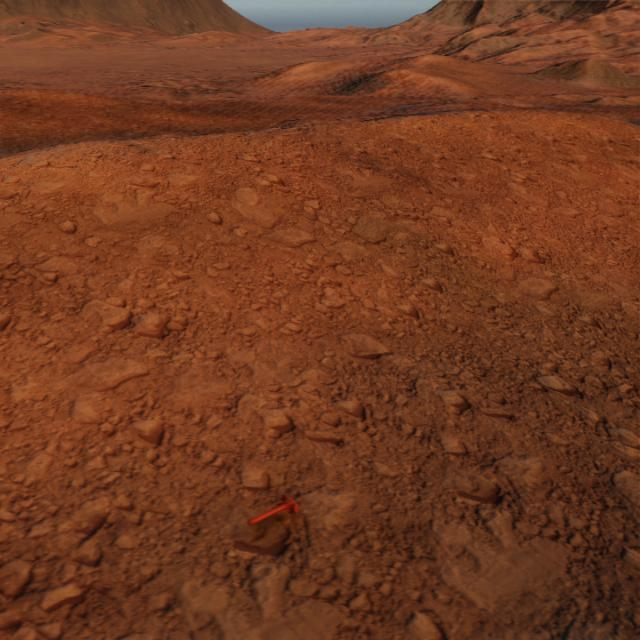newhammer: (248, 494, 298, 526)
